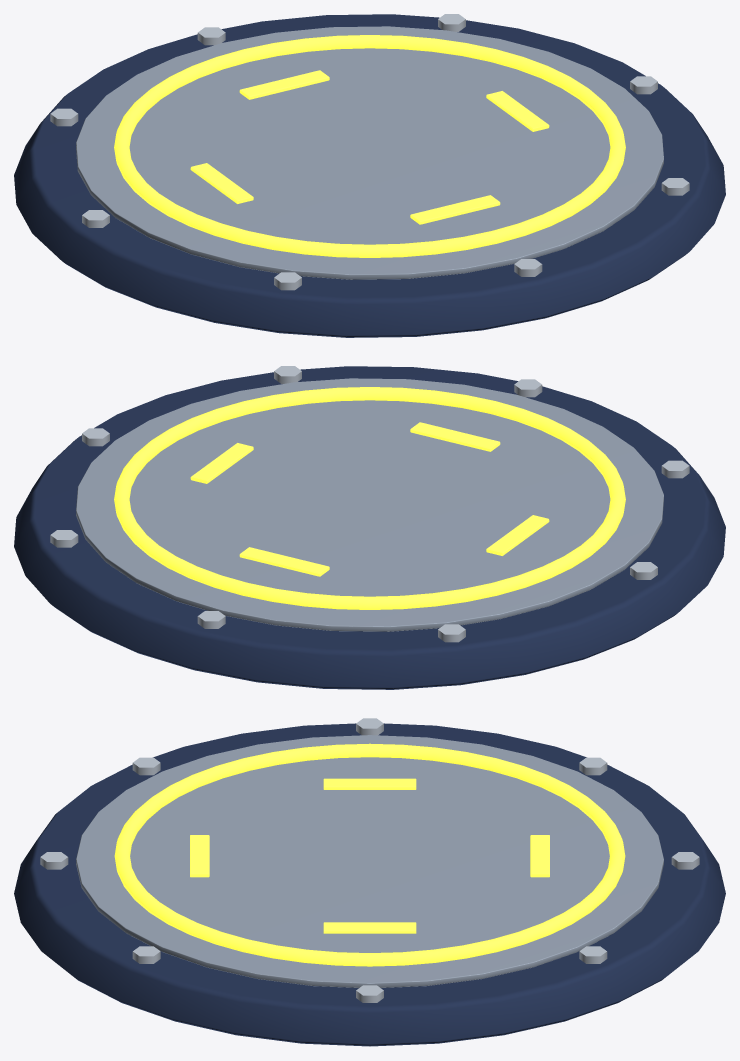
File: socket_trap_empty.glb
3 renders of one model, top to bottom at view 1: azimuth 30°, elevation 25°; view 2: azimuth 150°, elevation 25°; view 3: azimuth 270°, elevation 25°, orthographic.
Visible parts, largest first — view 1: socket_trap_empty_inlay, socket_trap_empty_plate, socket_trap_empty_ring, socket_trap_empty_bolts, socket_trap_empty_tick1, socket_trap_empty_tick3, socket_trap_empty_tick0, socket_trap_empty_tick2; view 2: socket_trap_empty_inlay, socket_trap_empty_plate, socket_trap_empty_ring, socket_trap_empty_bolts, socket_trap_empty_tick1, socket_trap_empty_tick3, socket_trap_empty_tick0, socket_trap_empty_tick2; view 3: socket_trap_empty_inlay, socket_trap_empty_plate, socket_trap_empty_ring, socket_trap_empty_bolts, socket_trap_empty_tick0, socket_trap_empty_tick2, socket_trap_empty_tick1, socket_trap_empty_tick3.
Part boxes in pixels (box(x1,y1,x2,y2)): socket_trap_empty_inlay: box(76, 26, 663, 279); socket_trap_empty_plate: box(14, 14, 725, 337); socket_trap_empty_ring: box(114, 35, 625, 257); socket_trap_empty_bolts: box(50, 14, 689, 290); socket_trap_empty_tick1: box(410, 195, 500, 224); socket_trap_empty_tick3: box(239, 70, 329, 99); socket_trap_empty_tick0: box(486, 91, 549, 131); socket_trap_empty_tick2: box(190, 163, 253, 203); socket_trap_empty_inlay: box(76, 378, 663, 631); socket_trap_empty_plate: box(14, 366, 725, 689); socket_trap_empty_ring: box(114, 387, 625, 609); socket_trap_empty_bolts: box(50, 366, 689, 642); socket_trap_empty_tick1: box(410, 422, 500, 451); socket_trap_empty_tick3: box(239, 547, 329, 576); socket_trap_empty_tick0: box(190, 443, 253, 483); socket_trap_empty_tick2: box(486, 515, 549, 555); socket_trap_empty_inlay: box(76, 735, 663, 987); socket_trap_empty_plate: box(14, 723, 725, 1046); socket_trap_empty_ring: box(114, 743, 625, 966); socket_trap_empty_bolts: box(40, 718, 699, 1002); socket_trap_empty_tick0: box(323, 922, 416, 933); socket_trap_empty_tick2: box(323, 778, 416, 789); socket_trap_empty_tick1: box(190, 835, 209, 877); socket_trap_empty_tick3: box(530, 835, 549, 877).
Size of the model in its own units: 2.3 by 0.175 by 2.3.
